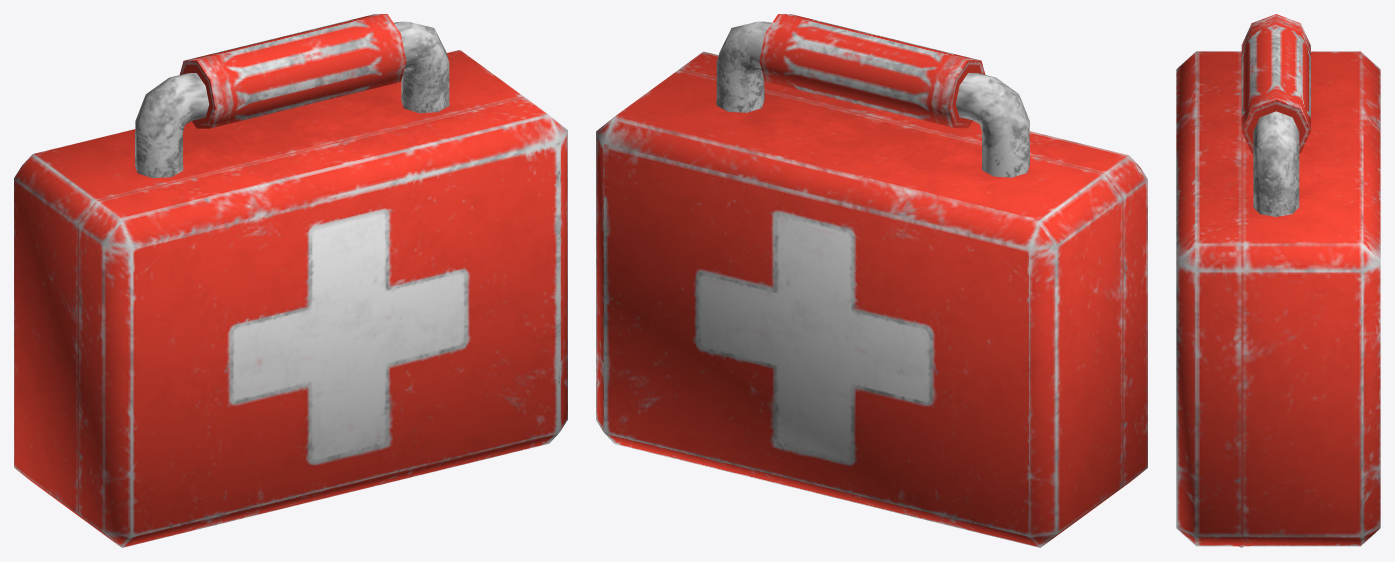
The model's file is first_aid.glb.
3 views of the same model, side by side, from view 1: azimuth 30°, elevation 25°; view 2: azimuth 150°, elevation 25°; view 3: azimuth 270°, elevation 25° (orthographic). The views are drawn at different scales.
Visible parts, largest first — view 1: FirstAidBag; view 2: FirstAidBag; view 3: FirstAidBag.
Part boxes in pixels (bbox=[...]): FirstAidBag: bbox=[14, 14, 567, 547]; FirstAidBag: bbox=[596, 14, 1147, 547]; FirstAidBag: bbox=[1176, 14, 1380, 547].
Size of what is drawn, in the model's own units: 0.6089 by 0.557 by 0.2515.
Materials: 1 (1 with a texture image).
